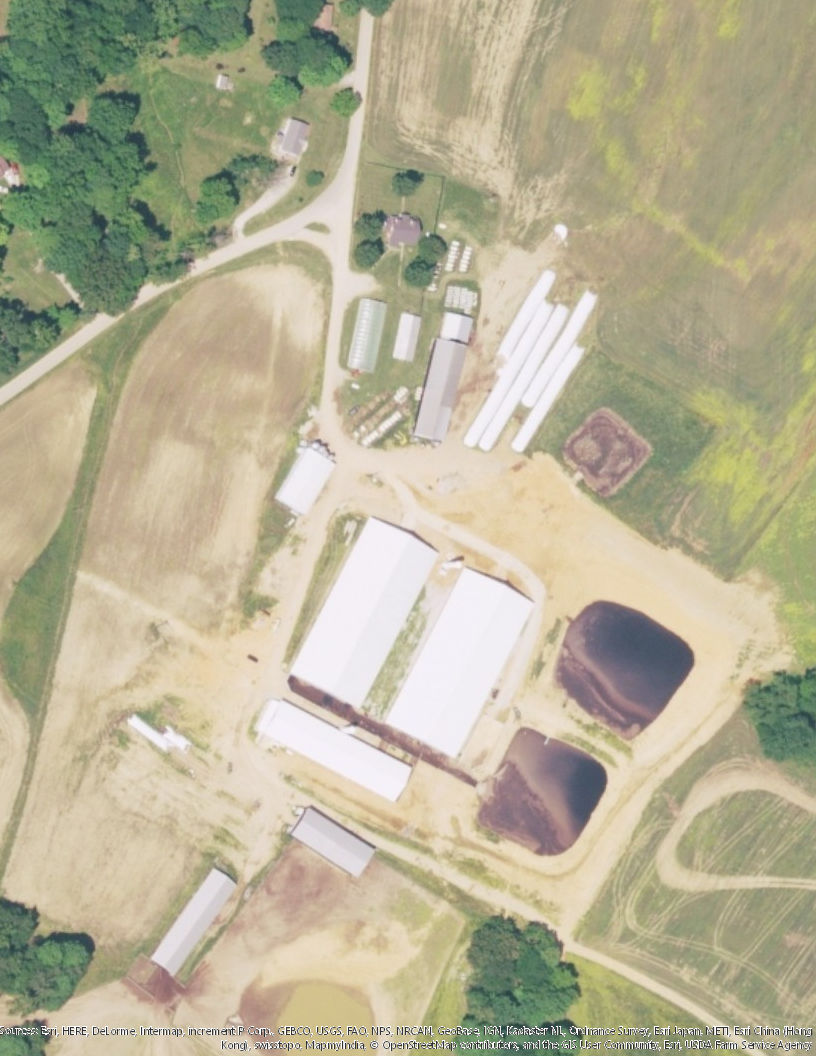cafo: (284, 501, 446, 720), (375, 555, 542, 765), (257, 694, 427, 813), (408, 308, 477, 447), (284, 807, 384, 881), (269, 438, 348, 518), (348, 285, 390, 378)
